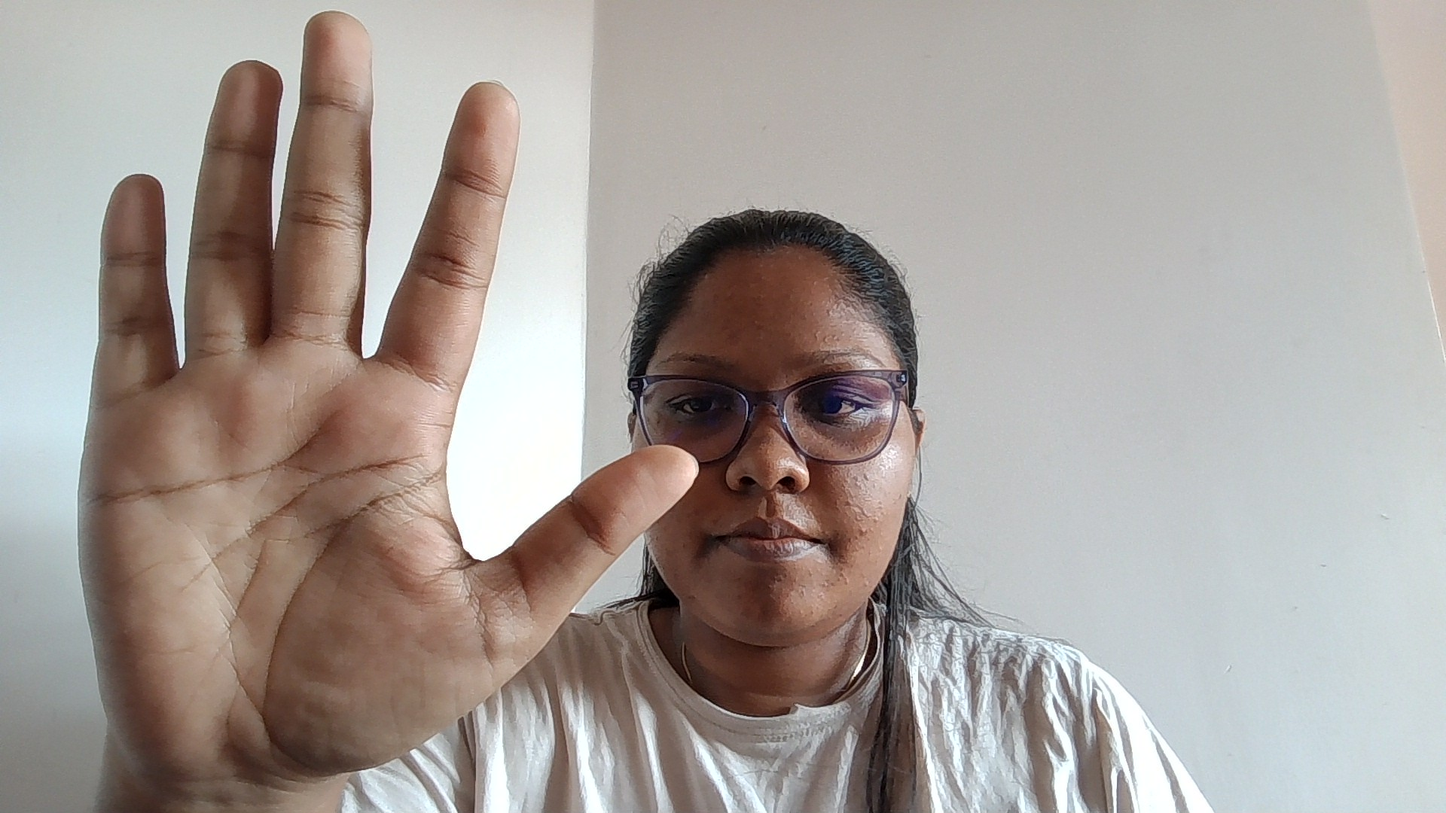Hello: (55, 12, 715, 762)
